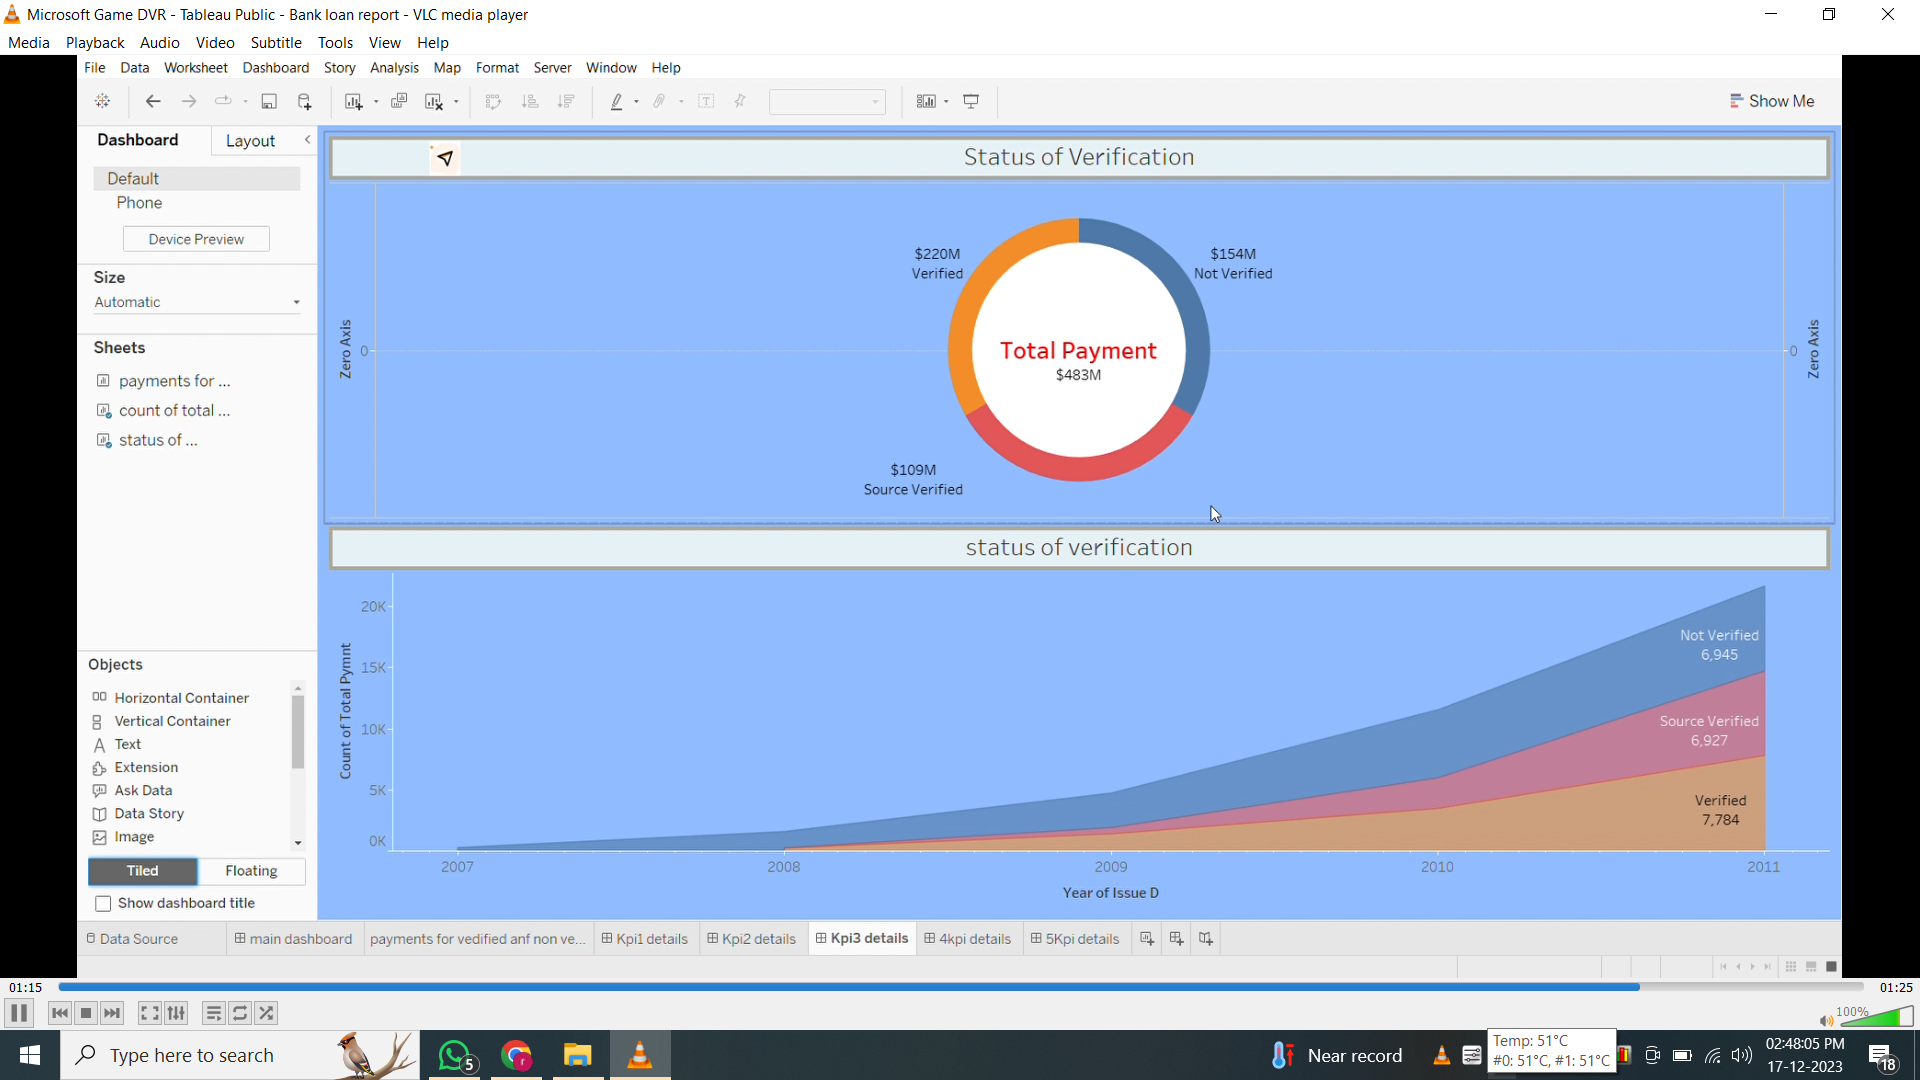

What the dashboard file says about the page in this screenshot:
{"tool":"tableau","page":{"name":"Kpi3 details","canvas":[1000,1000],"units":"permille","ordinal":4},"visuals":[{"type":"worksheet","title":"status of verification","mark":"Pie","rows":["Calculation_644859203898187776","Calculation_644859203898187776"],"box":[4.8,9.3,990.3,490.7]},{"type":"dashboard-object","box":[56.1,19.7,54.3,44.1]},{"type":"worksheet","title":"count of total payment by verification","mark":"Area","rows":["total_pymnt"],"cols":["issue_d"],"box":[4.8,500,990.3,490.7]}]}

Visuals, with their boxes on the dashboard's canvas, which has no fixed pixel size, in thousandths of its width and height (x1, y1, x2, y2). These are canvas units, not pixel positions in the 1920x1080 screenshot, which may show the page scaled, cropped or inside an application window:
"status of verification" worksheet (Pie marks): <box>5,9,995,500</box>
dashboard-object: <box>56,20,110,64</box>
"count of total payment by verification" worksheet (Area marks): <box>5,500,995,991</box>
